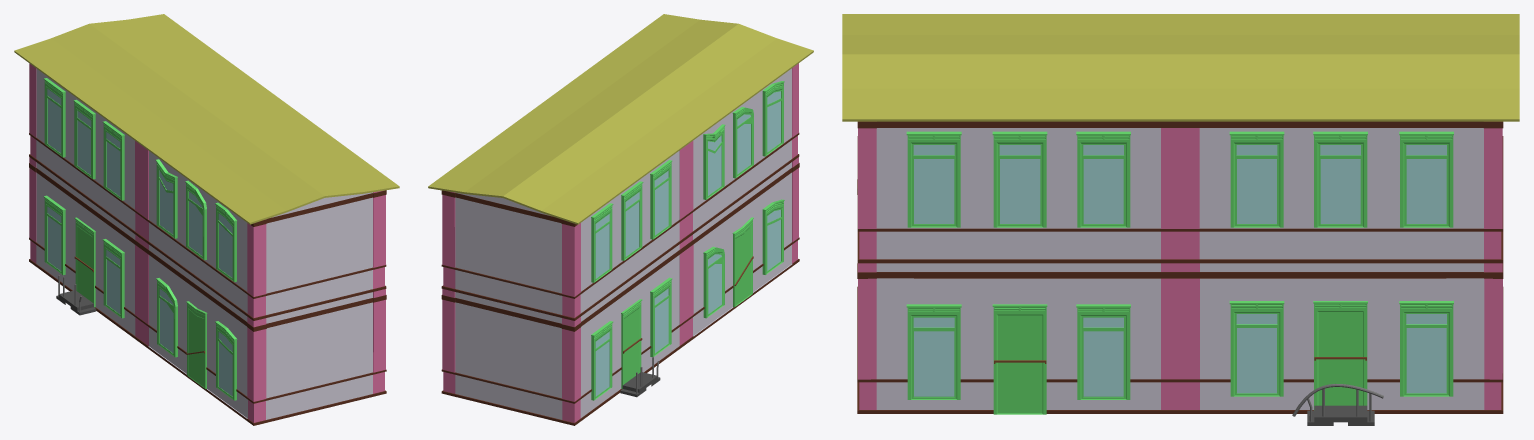
The model's file is House_structure_00.fbx.
3 renders of one model, left to right at view 1: azimuth 30°, elevation 25°; view 2: azimuth 150°, elevation 25°; view 3: azimuth 270°, elevation 25°, orthographic. The views are drawn at different scales.
Parts seen in each view (by area): view 1: House_structure_00; view 2: House_structure_00; view 3: House_structure_00.
Part boxes in pixels (bbox=[...]): House_structure_00: bbox=[14, 14, 399, 425]; House_structure_00: bbox=[428, 14, 813, 425]; House_structure_00: bbox=[842, 14, 1519, 425].
Bounding box in the file's own units: 503 × 624 × 1224.
